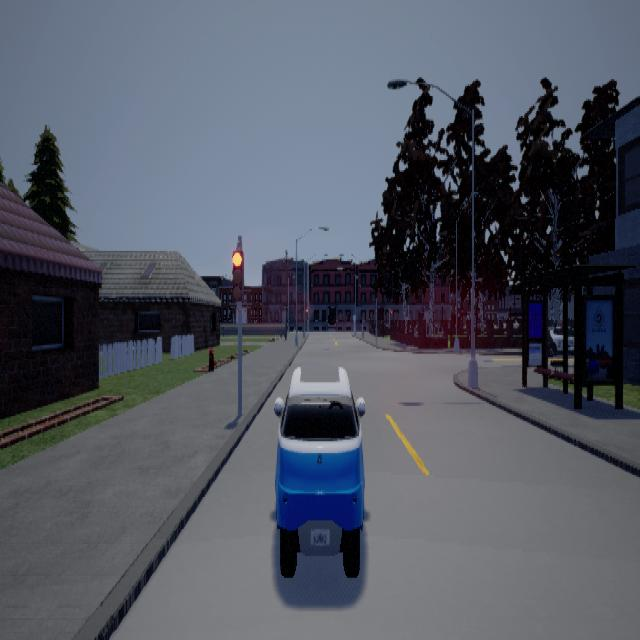red_light: (233, 239, 245, 310)
vehicle: (275, 364, 367, 576)
